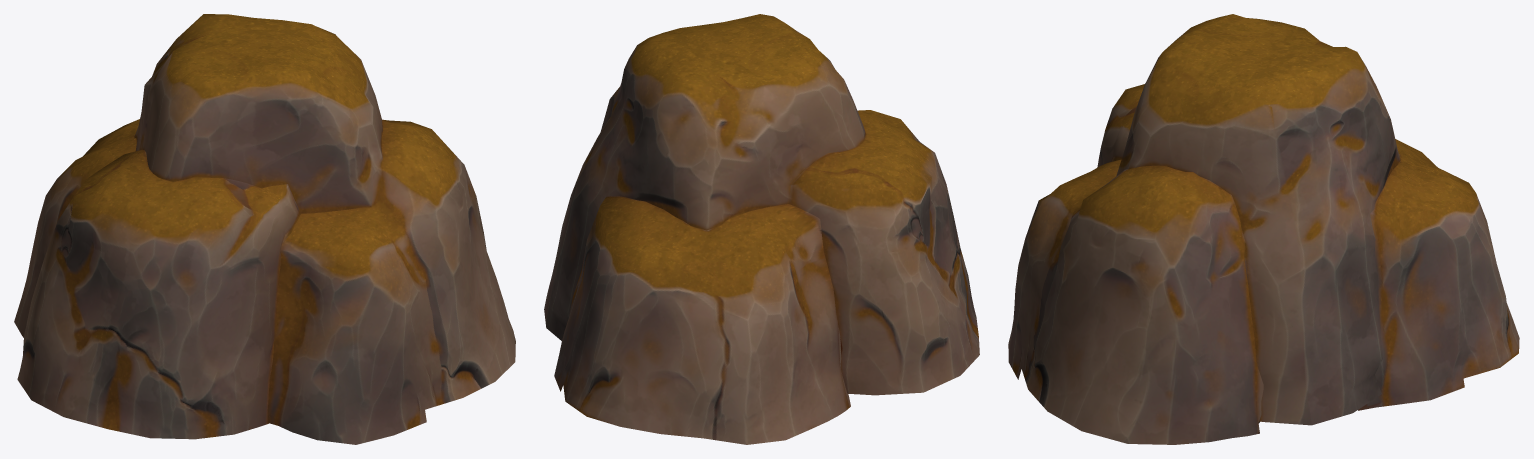
File: SM_Rock_04.glb
3 views of the same model, side by side, from view 1: azimuth 30°, elevation 25°; view 2: azimuth 150°, elevation 25°; view 3: azimuth 270°, elevation 25° (orthographic). The views are drawn at different scales.
Visible parts, largest first — view 1: SM_Rock_04; view 2: SM_Rock_04; view 3: SM_Rock_04.
Part boxes in pixels (box(x1,y1,x2,y2)): SM_Rock_04: box(14, 14, 515, 444); SM_Rock_04: box(544, 14, 979, 444); SM_Rock_04: box(1008, 14, 1519, 444).
Size of the model in its own units: 1.29 by 0.893 by 1.32.
1 material, 1 textured.
